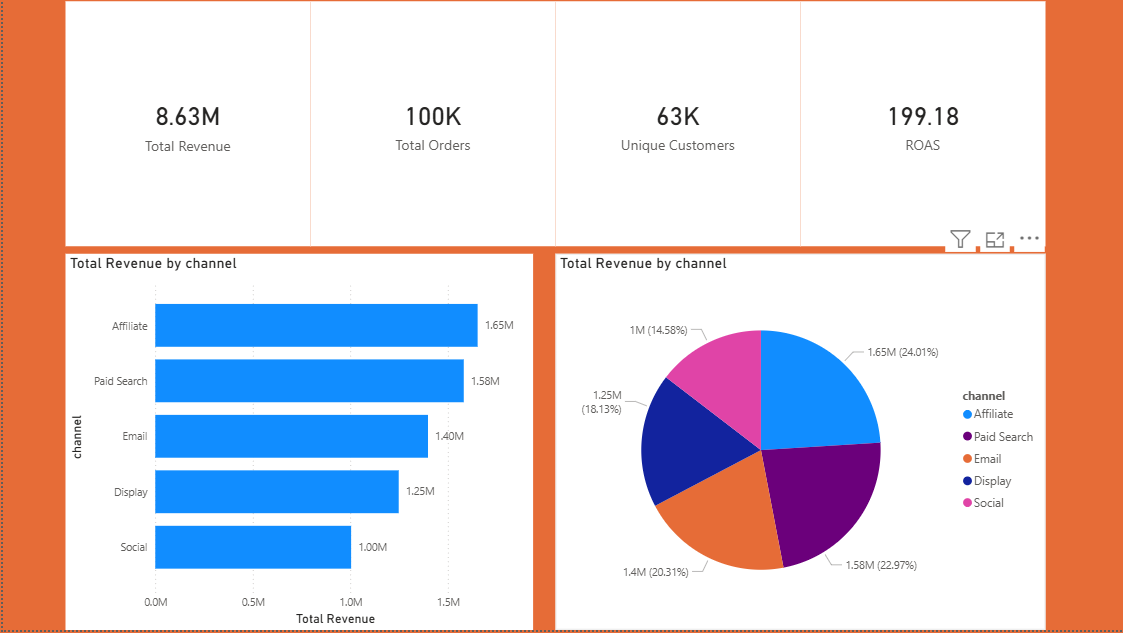

Layout of this report page (visuals, bound fields, positions):
{"tool":"powerbi","page":{"name":"Customer Product Segments","canvas":[1280,720],"ordinal":3},"visuals":[{"type":"textbox","box":[10,0,858,51],"z":0},{"type":"clusteredBarChart","fields":{"Category":["revenue_by_loyalty.loyalty_tier"],"Y":["Sum(revenue_by_loyalty.net_revenue)"]},"box":[10,166,664,215],"z":1},{"type":"donutChart","fields":{"Category":["revenue_by_category.category"],"Y":["Sum(revenue_by_category.net_revenue)"]},"box":[10,381,664,199],"z":2},{"type":"clusteredBarChart","fields":{"Category":["revenue_by_channel.channel"],"Y":["Sum(revenue_by_channel.net_revenue)"]},"box":[714,166,556,227],"z":3}]}

Visuals, with their boxes in screenshot pixels (x1, y1, x2, y2), scaled from the page's 1280x720 canvas onto the 1123x633 screenshot:
textbox: {"x1": 9, "y1": 0, "x2": 762, "y2": 45}
clusteredBarChart - revenue_by_loyalty.loyalty_tier x Sum(revenue_by_loyalty.net_revenue): {"x1": 9, "y1": 146, "x2": 591, "y2": 335}
donutChart - revenue_by_category.category x Sum(revenue_by_category.net_revenue): {"x1": 9, "y1": 335, "x2": 591, "y2": 510}
clusteredBarChart - revenue_by_channel.channel x Sum(revenue_by_channel.net_revenue): {"x1": 626, "y1": 146, "x2": 1114, "y2": 346}
